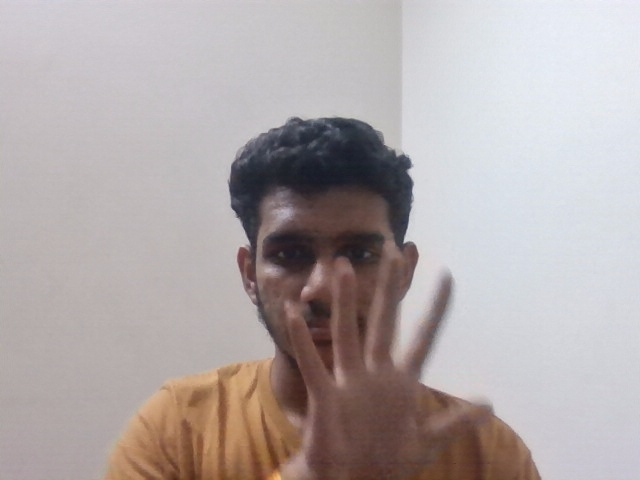hello: (258, 239, 496, 474)
